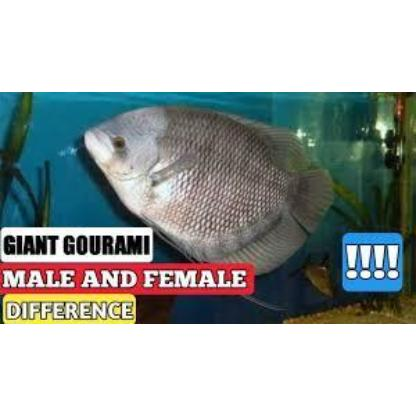gurame: (79, 100, 325, 264)
